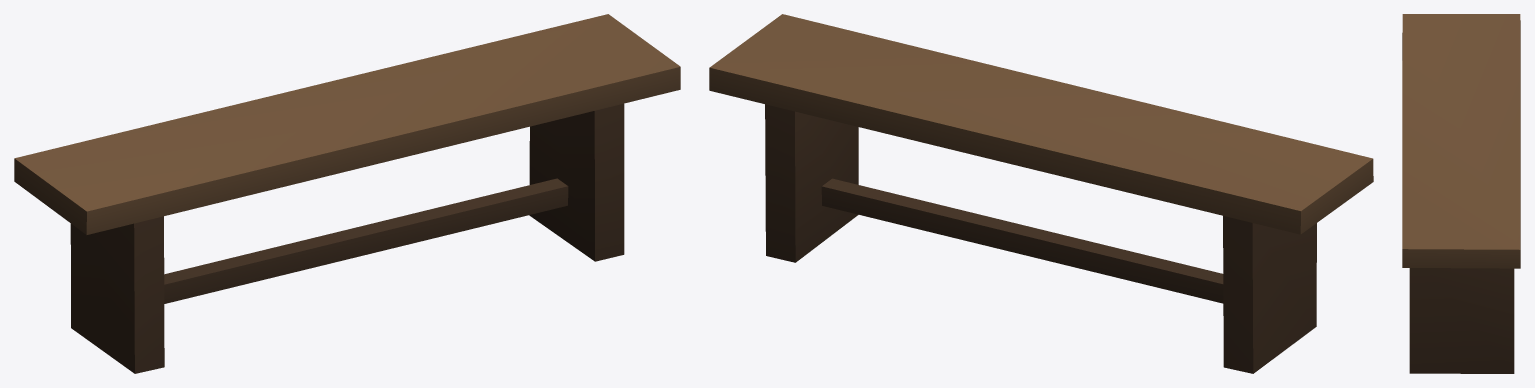
Rendered from ph_prop_v_bench.glb.
3 renders of one model, left to right at view 1: azimuth 30°, elevation 25°; view 2: azimuth 150°, elevation 25°; view 3: azimuth 270°, elevation 25°, orthographic. The views are drawn at different scales.
Visible parts, largest first — view 1: ph_prop_v_bench; view 2: ph_prop_v_bench; view 3: ph_prop_v_bench.
Part boxes in pixels (left/top/right/bottom): ph_prop_v_bench: left=14, top=14, right=680, bottom=373; ph_prop_v_bench: left=709, top=14, right=1373, bottom=373; ph_prop_v_bench: left=1402, top=14, right=1520, bottom=373.
Size of the model in its own units: 1.6 by 0.4633 by 0.341.
